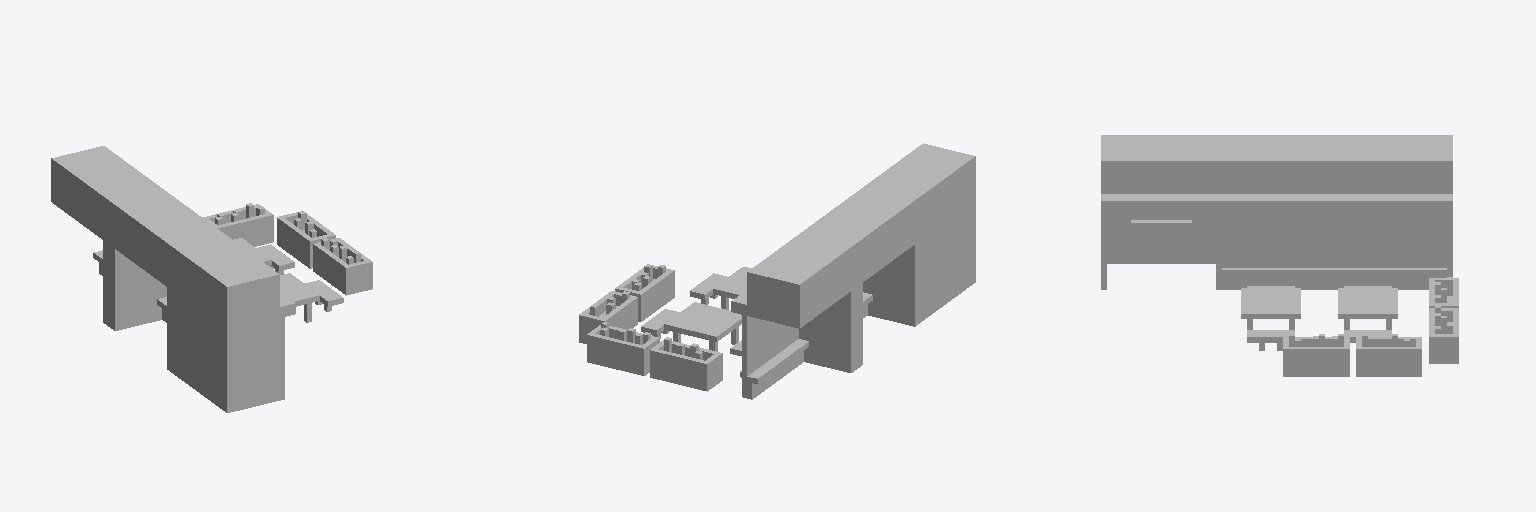
The model's file is scene_coffee.obj.
The picture shows the model from 3 angles: view 1: azimuth 30°, elevation 25°; view 2: azimuth 150°, elevation 25°; view 3: azimuth 270°, elevation 25°; orthographic projection.
Parts seen in each view (by area): view 1: object 1; view 2: object 1; view 3: object 1.
Part boxes in pixels (x1,y1,x2,y2): object 1: (51, 146, 372, 412); object 1: (579, 143, 975, 399); object 1: (1101, 135, 1458, 376).
Bounding box in the file's own units: 4.5 × 2.3 × 5.9.